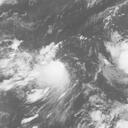cyclone: (29, 58, 73, 100)
